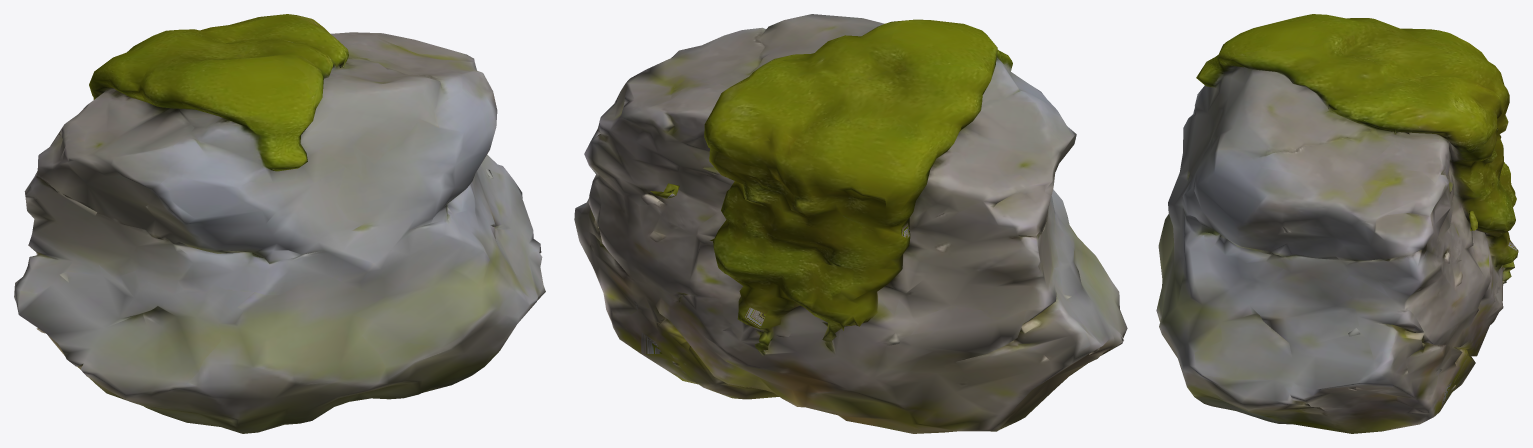
The model's file is rock_1.glb.
3 renders of one model, left to right at view 1: azimuth 30°, elevation 25°; view 2: azimuth 150°, elevation 25°; view 3: azimuth 270°, elevation 25°, orthographic. The views are drawn at different scales.
Parts seen in each view (by area): view 1: Fable_rock_1; view 2: Fable_rock_1; view 3: Fable_rock_1.
Part boxes in pixels (box(x1,y1,x2,y2)): Fable_rock_1: box(14, 14, 545, 433); Fable_rock_1: box(574, 14, 1127, 433); Fable_rock_1: box(1156, 14, 1518, 433).
Bounding box in the file's own units: 3.76 × 2.26 × 2.45.
1 material, 1 textured.
